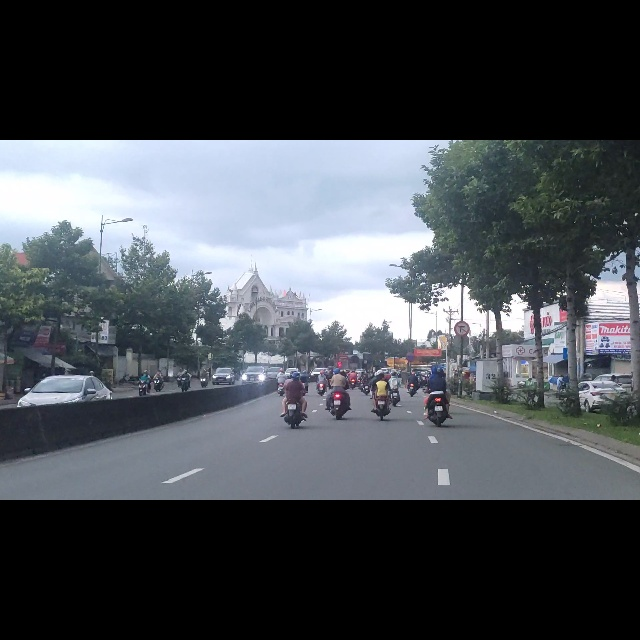bien_cam: (454, 322, 470, 351)
